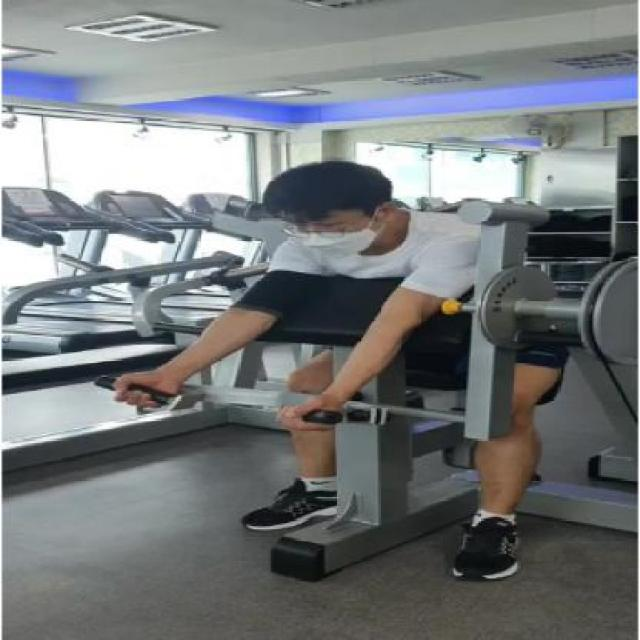arm curl machine: (94, 272, 640, 580)
